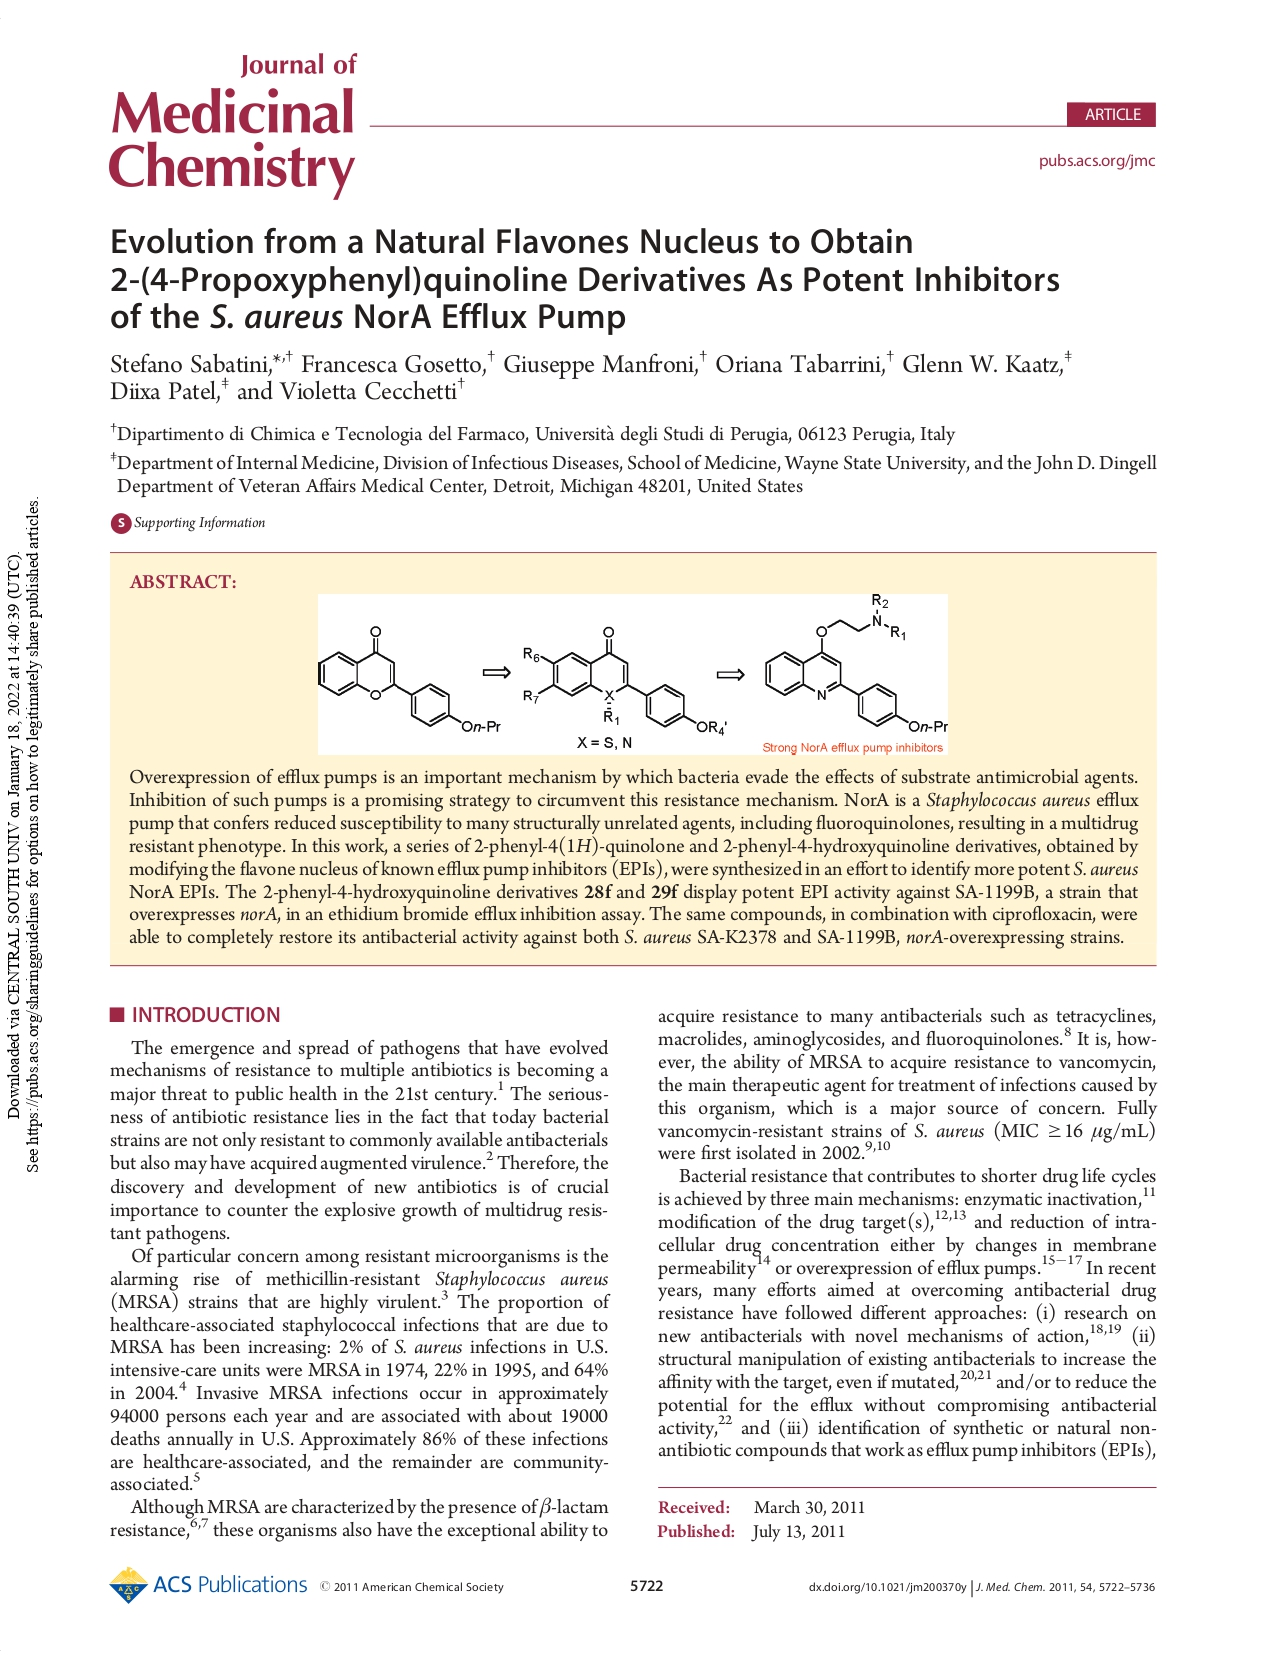exist_molecular: (762, 594, 949, 734), (519, 624, 729, 737), (316, 622, 501, 735)
